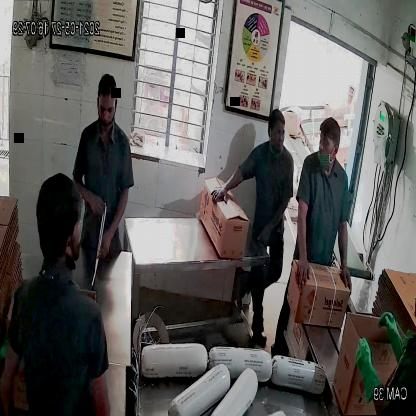no_goggles: (93, 96, 120, 122), (315, 133, 344, 154)
